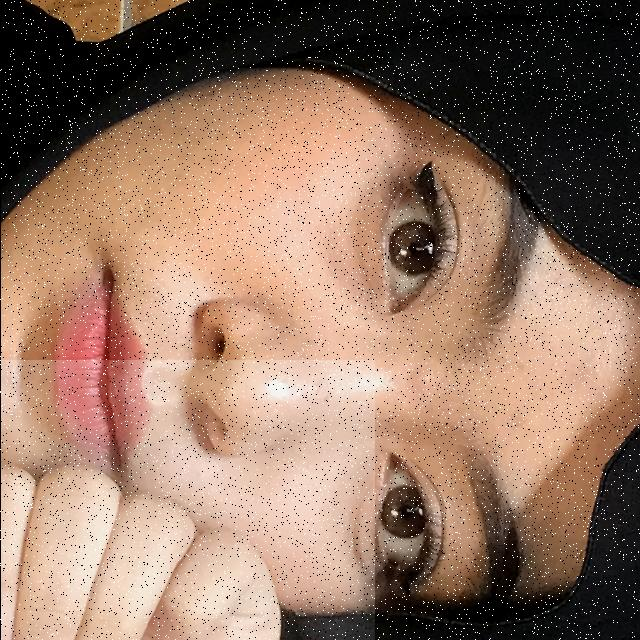sedih: (0, 360, 374, 640)
